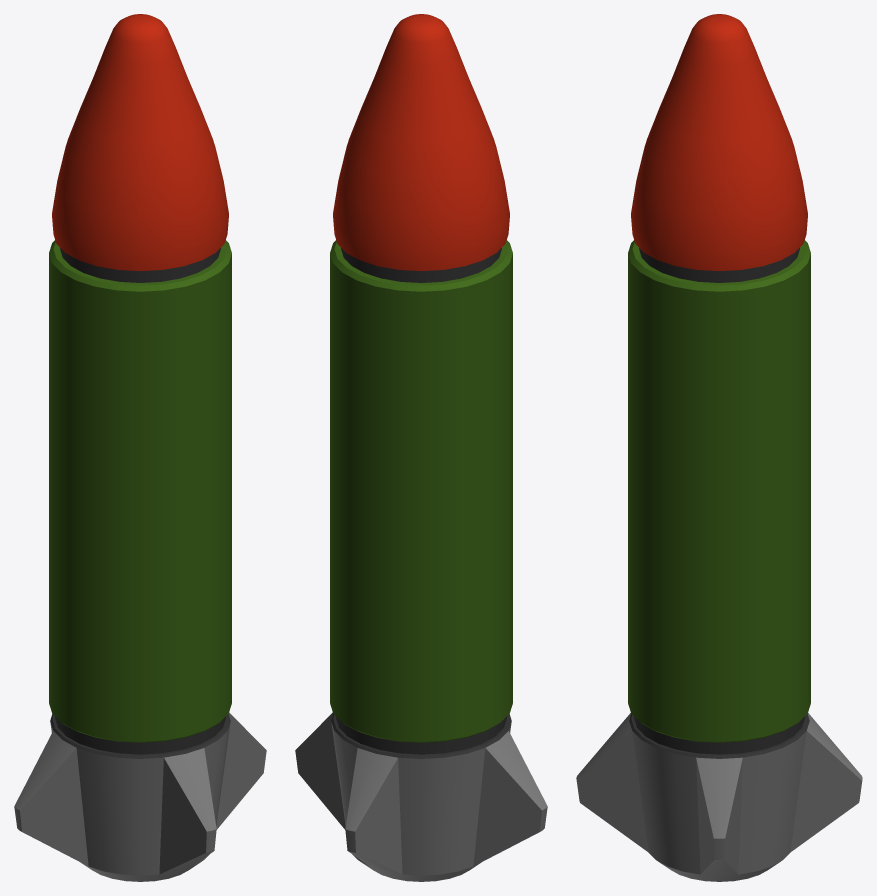
The model's file is Missile.fbx.
3 renders of one model, left to right at view 1: azimuth 30°, elevation 25°; view 2: azimuth 150°, elevation 25°; view 3: azimuth 270°, elevation 25°, orthographic.
Parts seen in each view (by area): view 1: Missile_1; view 2: Missile_1; view 3: Missile_1.
Boxes of the visible parts, bbox=[...] form: Missile_1: bbox=[14, 14, 266, 881]; Missile_1: bbox=[295, 14, 547, 881]; Missile_1: bbox=[576, 14, 862, 881].
Size of the model in its own units: 1.03 by 3.34 by 1.03.
Materials: 1 (1 with a texture image).
